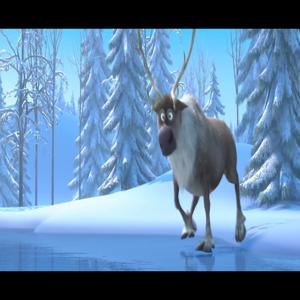sven: (139, 39, 262, 251)
